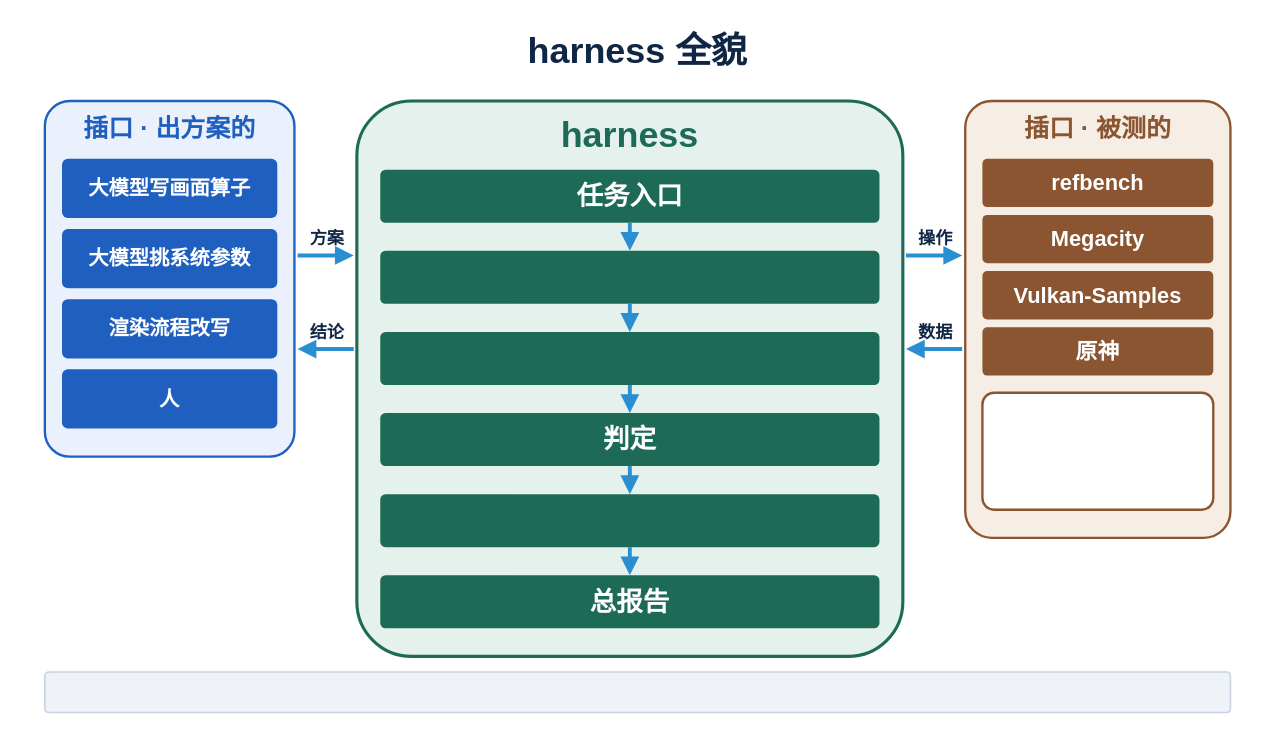
Image size: 1275x729. Some labels were removed from this diagram. The centre of each missing label's shape, as x and y in pixels:
好坏由 harness 判定 · 出方案的一方改不了规则: (637,692)
测量: (629,358)
环境控制: (629,276)
证据与档案: (629,520)
跑在这些平台上 安卓 · 鸿蒙 海外版华为 EMUI: (1097,451)
